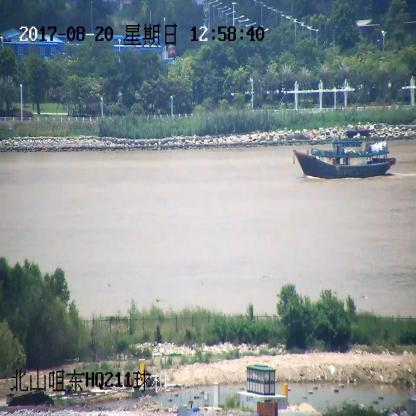Fishing Boat: (293, 141, 395, 180)
